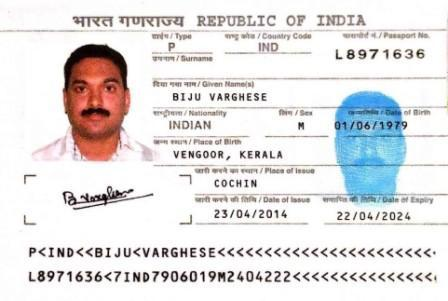DOB: (327, 118, 421, 133)
country_code: (252, 40, 285, 56)
date_of_expiry: (331, 206, 428, 225)
date_of_issue: (194, 208, 291, 222)
details: (4, 246, 431, 296)
name: (157, 91, 299, 104)
nationality: (148, 114, 245, 131)
passport_no: (333, 45, 429, 60)
photo: (18, 39, 143, 177)
place_of_birth: (150, 148, 320, 163)
place_of_issue: (198, 176, 264, 190)
sex: (287, 119, 310, 135)
sign: (60, 179, 150, 220)
type: (162, 38, 180, 54)
